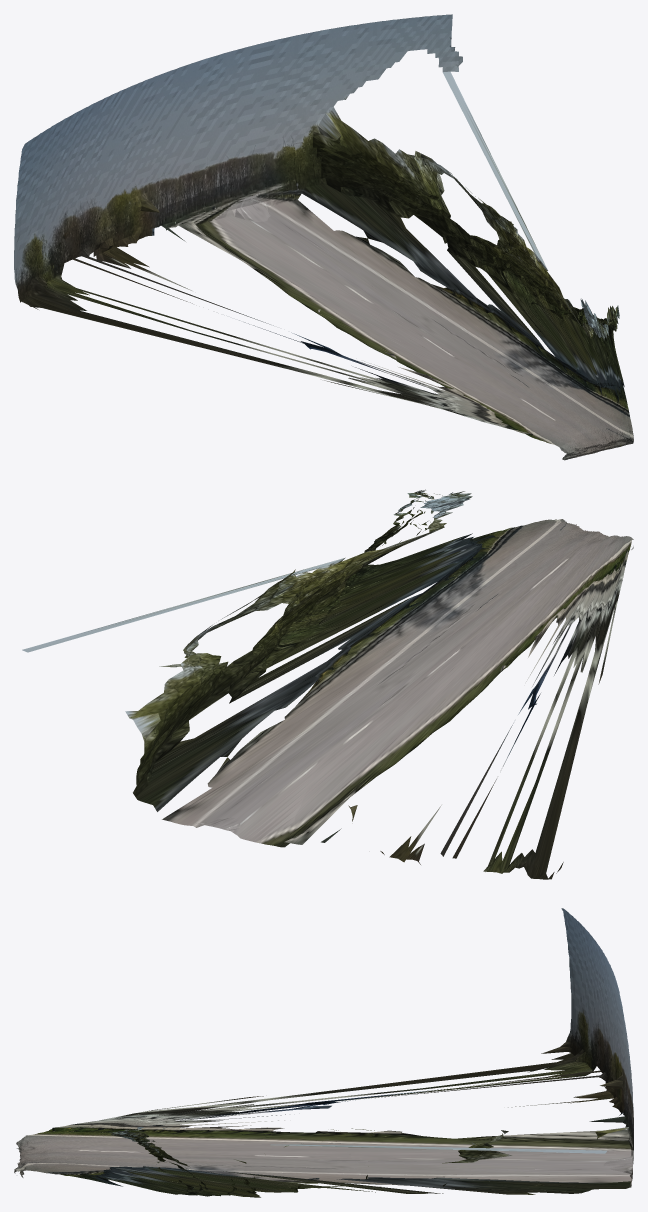
The picture shows the model from 3 angles, top to bottom: view 1: azimuth 30°, elevation 25°; view 2: azimuth 150°, elevation 25°; view 3: azimuth 270°, elevation 25°; orthographic projection. The views are drawn at different scales.
Parts seen in each view (by area): view 1: defaultobject; view 2: defaultobject; view 3: defaultobject.
Boxes of the visible parts, box(x1,y1,x2,y2) form: defaultobject: box(14, 14, 633, 460); defaultobject: box(22, 489, 633, 879); defaultobject: box(14, 908, 633, 1197).
Bounding box in the file's own units: 34.52 × 12.5 × 44.41.
1 material, 1 textured.
